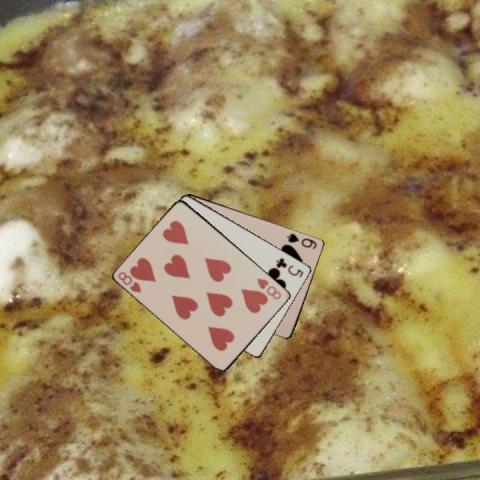5c: (274, 254, 306, 278)
6s: (284, 230, 319, 251)
8h: (254, 275, 283, 301), (115, 269, 144, 294)
